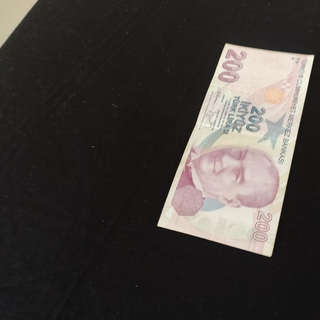200TLFront: (156, 42, 315, 257)
